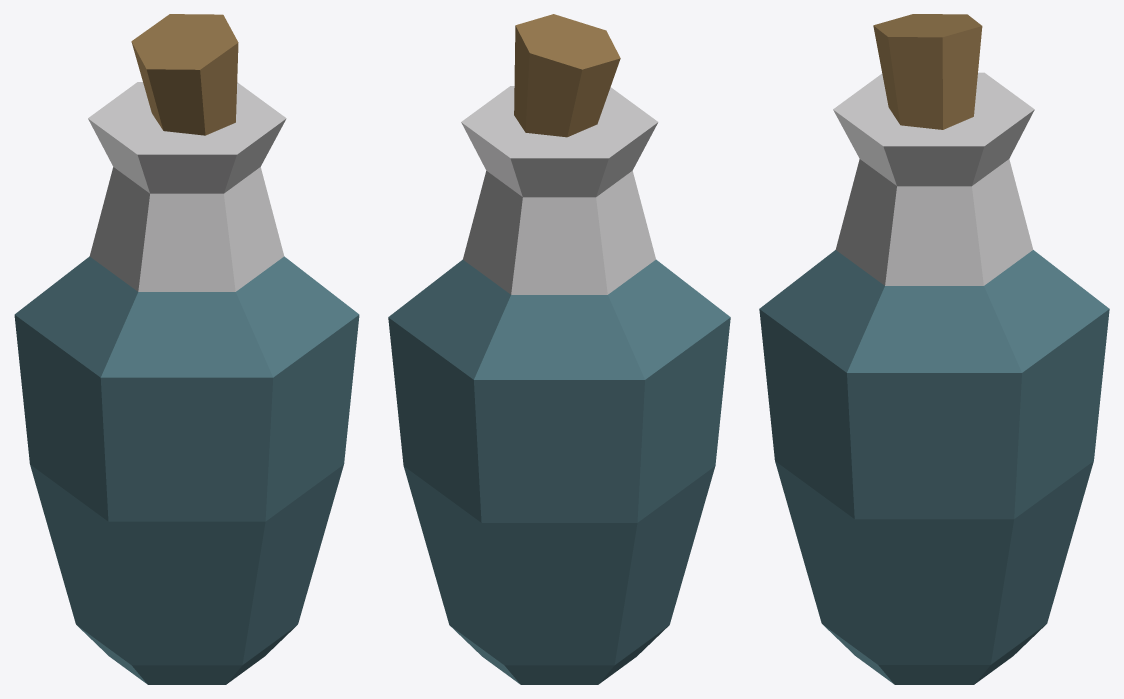
The model's file is Blue_Potion.gltf.
3 renders of one model, left to right at view 1: azimuth 30°, elevation 25°; view 2: azimuth 150°, elevation 25°; view 3: azimuth 270°, elevation 25°, orthographic. The views are drawn at different scales.
Parts seen in each view (by area): view 1: Blue_Potion2; view 2: Blue_Potion2; view 3: Blue_Potion2.
Part boxes in pixels (x1,y1,x2,y2): Blue_Potion2: (14,14,359,684); Blue_Potion2: (388,14,730,684); Blue_Potion2: (759,14,1109,684).
Bounding box in the file's own units: 0.0464 × 0.1078 × 0.0536.
1 material, 1 textured.
